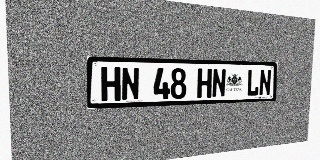4: (153, 68, 170, 100)
8: (170, 68, 187, 99)
H: (101, 67, 121, 101), (197, 68, 212, 98)
L: (246, 69, 260, 96)
N: (121, 67, 140, 101), (212, 69, 226, 98), (259, 69, 272, 96)
